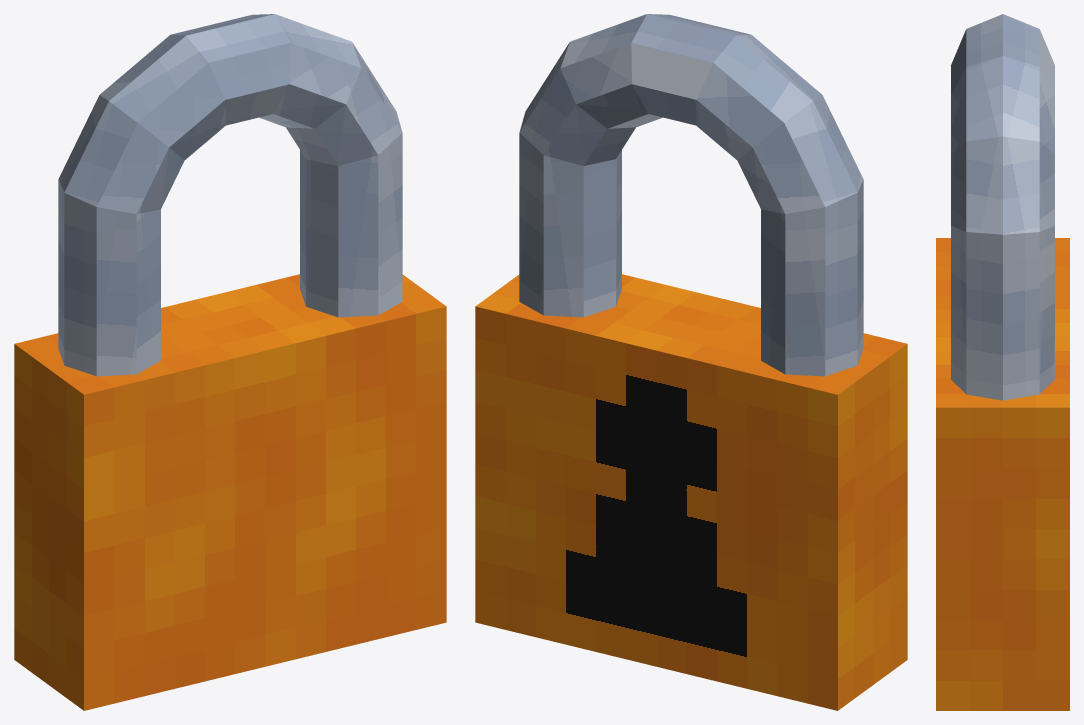
The model's file is gateLock - merged.gltf.
The picture shows the model from 3 angles, left to right: view 1: azimuth 30°, elevation 25°; view 2: azimuth 150°, elevation 25°; view 3: azimuth 270°, elevation 25°; orthographic projection. The views are drawn at different scales.
Parts seen in each view (by area): view 1: loop; view 2: loop; view 3: loop.
Part boxes in pixels (box(x1,y1,x2,y2)): loop: box(14, 14, 446, 710); loop: box(475, 14, 907, 710); loop: box(936, 14, 1069, 710).
Size of the model in its own units: 0.375 by 0.6094 by 0.125.
2 materials, 2 textured.
